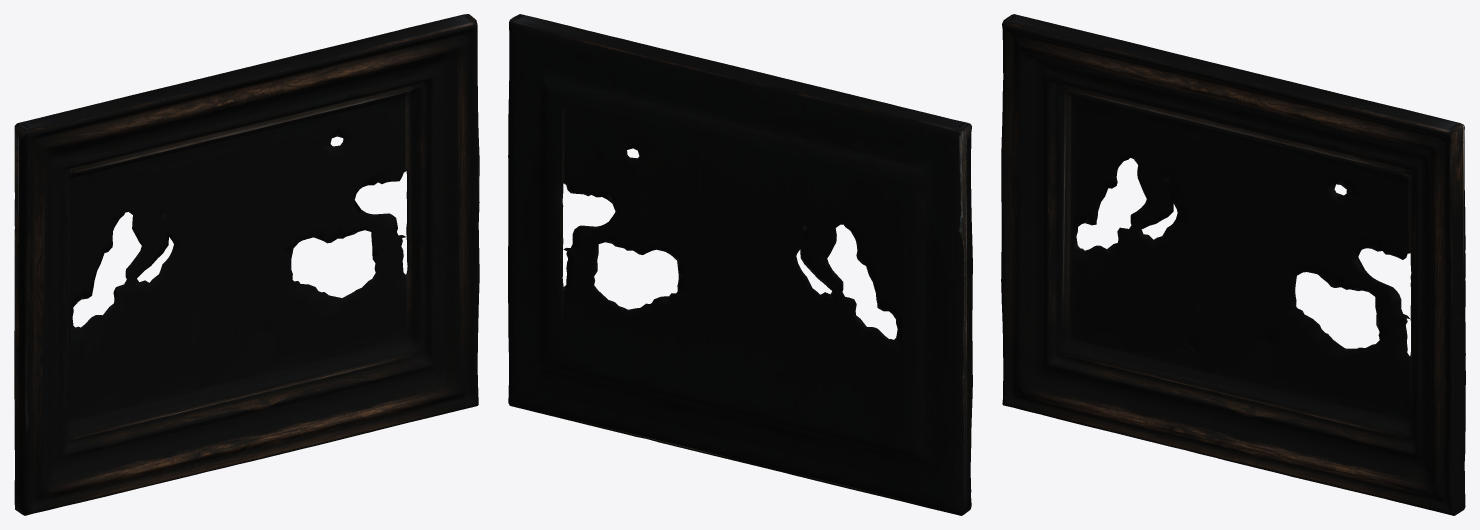
The model's file is A_modern_style_pictur_1127192331_texture.fbx.
3 views of the same model, side by side, from view 1: azimuth 30°, elevation 25°; view 2: azimuth 150°, elevation 25°; view 3: azimuth 330°, elevation 25° (orthographic).
Visible parts, largest first — view 1: Mesh_0; view 2: Mesh_0; view 3: Mesh_0.
Part boxes in pixels (left/top/right/bottom): Mesh_0: left=14, top=14, right=479, bottom=515; Mesh_0: left=508, top=14, right=972, bottom=515; Mesh_0: left=1001, top=14, right=1465, bottom=515.
Bounding box in the file's own units: 200 × 162 × 12.7.
Materials: 1 (1 with a texture image).
